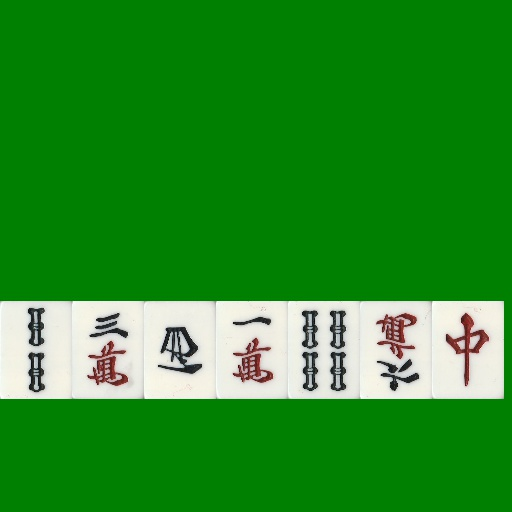1m: (216, 301, 288, 399)
2s: (0, 301, 72, 399)
3m: (72, 301, 144, 399)
4s: (288, 301, 360, 399)
6m: (360, 301, 432, 399)
tyun: (432, 301, 504, 399)
west: (144, 301, 216, 399)
